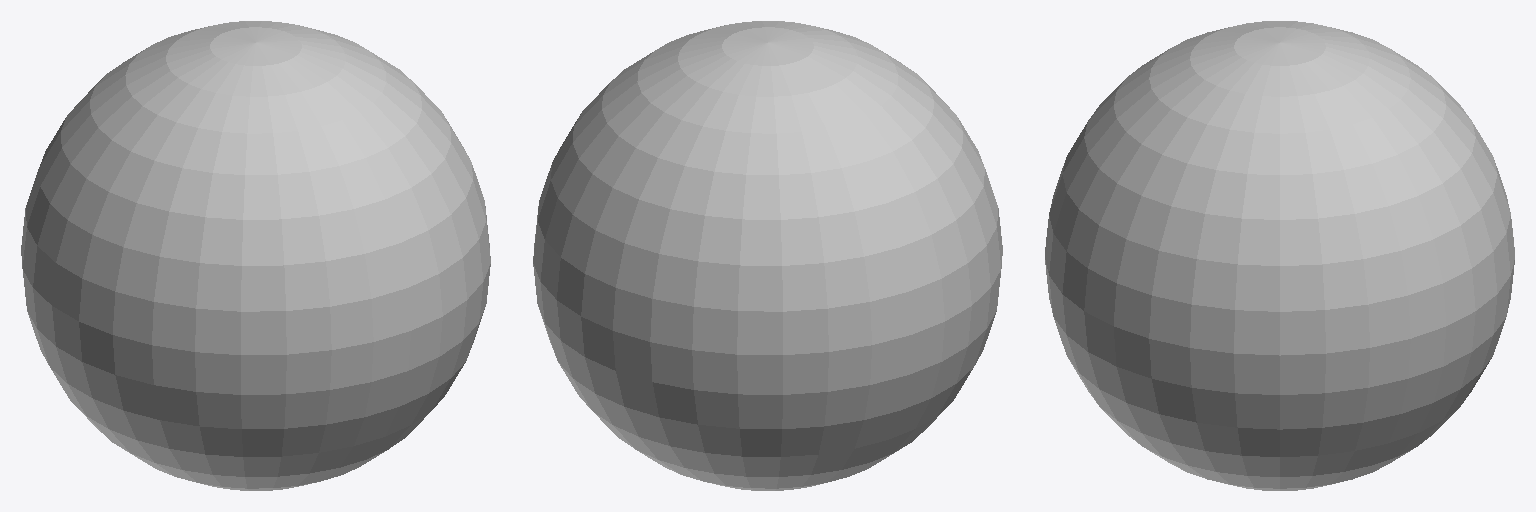
File: Luna.obj
3 views of the same model, side by side, from view 1: azimuth 30°, elevation 25°; view 2: azimuth 150°, elevation 25°; view 3: azimuth 270°, elevation 25° (orthographic).
Visible parts, largest first — view 1: Sphere; view 2: Sphere; view 3: Sphere.
Part boxes in pixels (x1,y1,x2,y2): Sphere: (21,21,490,490); Sphere: (533,21,1002,490); Sphere: (1045,21,1514,490).
Bounding box in the file's own units: 1.27 × 1.27 × 1.27.